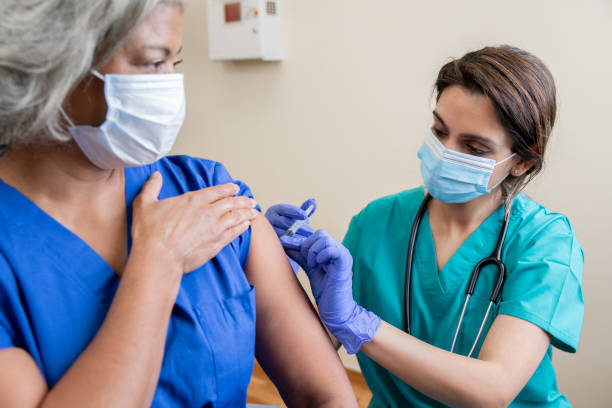with mask: (61, 16, 192, 174), (411, 80, 535, 215)
